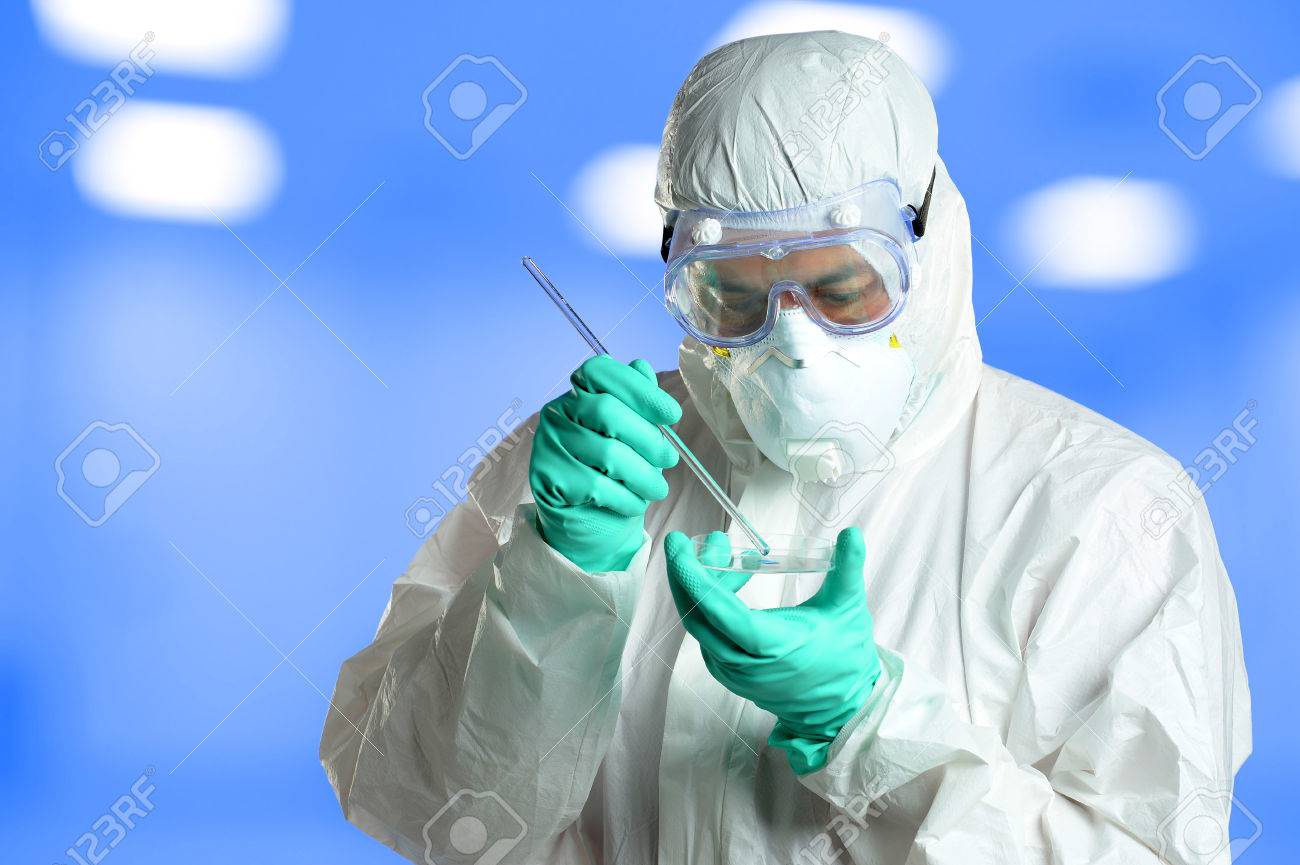Coverall: (321, 36, 1242, 859)
Gloves: (667, 526, 887, 747), (526, 351, 683, 570)
Goggles: (659, 180, 920, 350)
with_mask: (716, 302, 910, 483)
